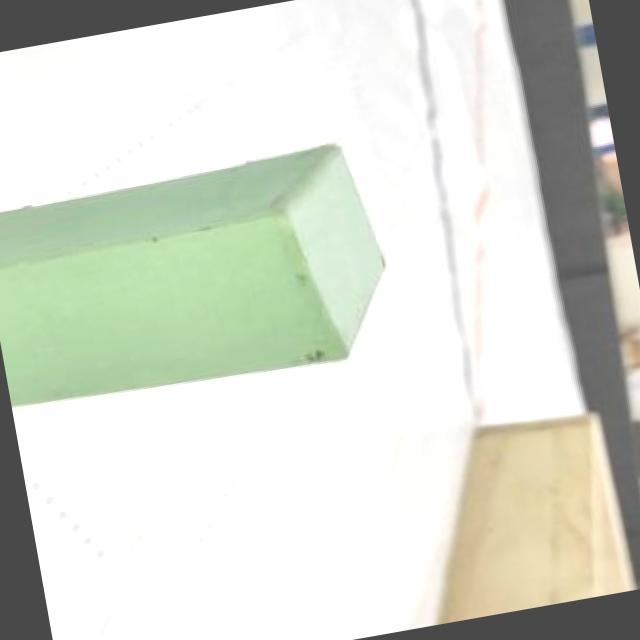greenbox: (0, 132, 407, 424)
